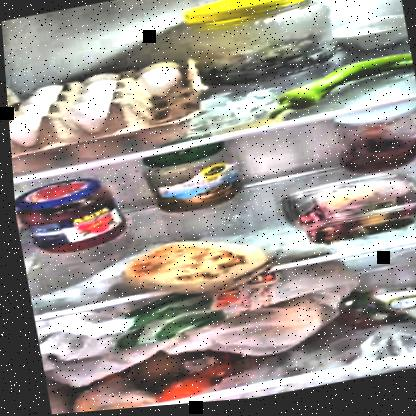eggs: (6, 64, 193, 146)
green_chillies: (260, 59, 414, 120)
olives: (195, 33, 331, 90)
tomato: (154, 373, 213, 401)
